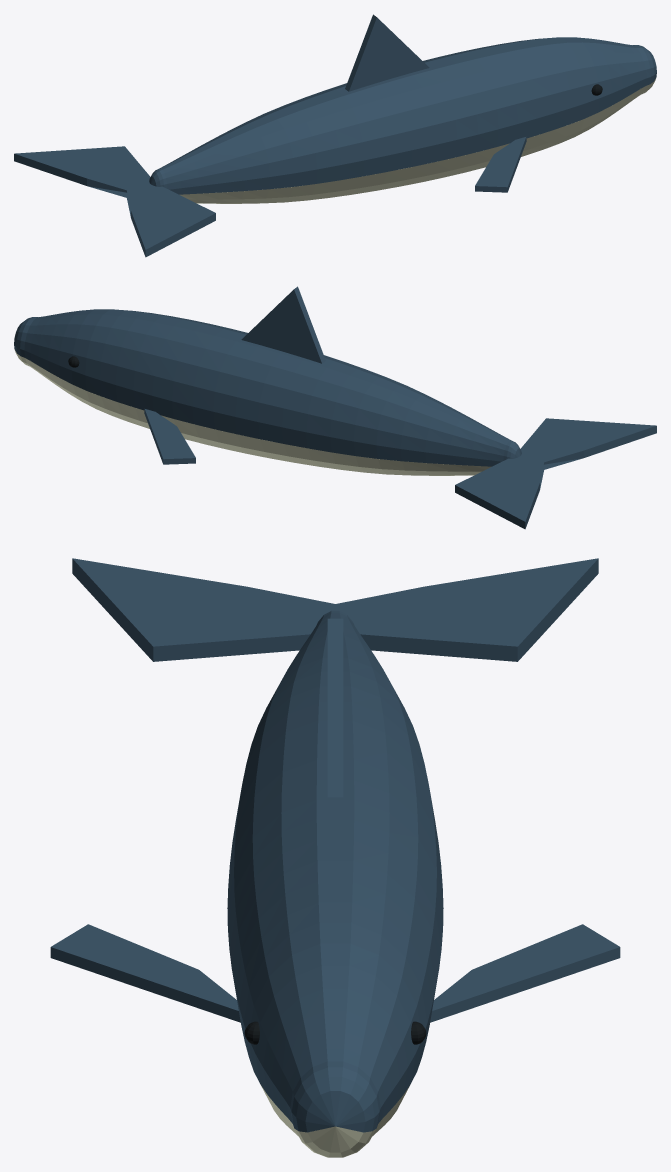
File: harbour-porpoise.dae
The picture shows the model from 3 angles, top to bottom: view 1: azimuth 30°, elevation 25°; view 2: azimuth 150°, elevation 25°; view 3: azimuth 270°, elevation 25°; orthographic projection. The views are drawn at different scales.
Parts seen in each view (by area): view 1: part2-node, part1-node; view 2: part2-node, part1-node; view 3: part2-node, part1-node.
Part boxes in pixels (box(x1,y1,x2,y2)): part2-node: box(14, 14, 656, 257); part1-node: box(179, 77, 656, 203); part2-node: box(14, 286, 656, 529); part1-node: box(14, 349, 491, 475); part2-node: box(50, 558, 620, 1132); part1-node: box(261, 1085, 409, 1157).
Size of the model in its own units: 1.6 by 0.6872 by 0.4584.
